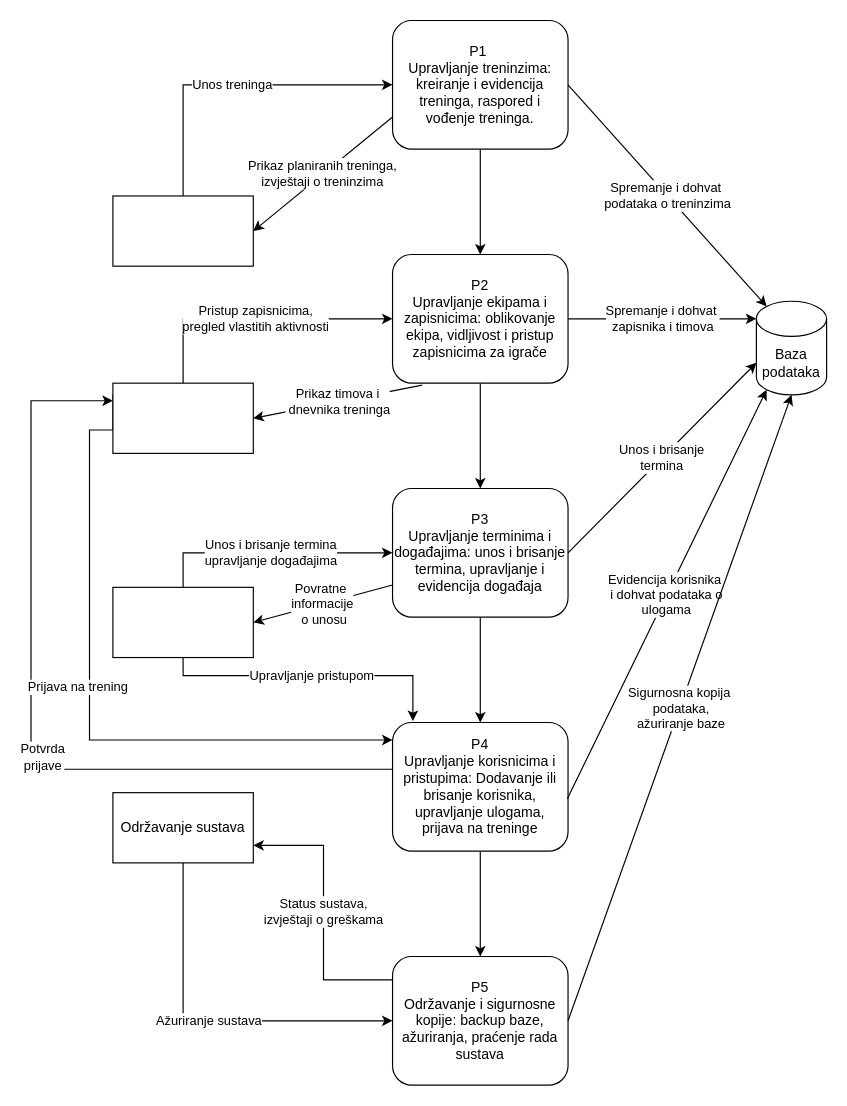
The diagram is 847 pixels wide and 1106 high, and some of its shapes have lost their labels. Here are the shapes that lost their labels. From the top down, the centre of each, then its label:
At [182,230]: "Trener".
At [182,417]: "Igrači".
At [182,622]: "Administrator".
